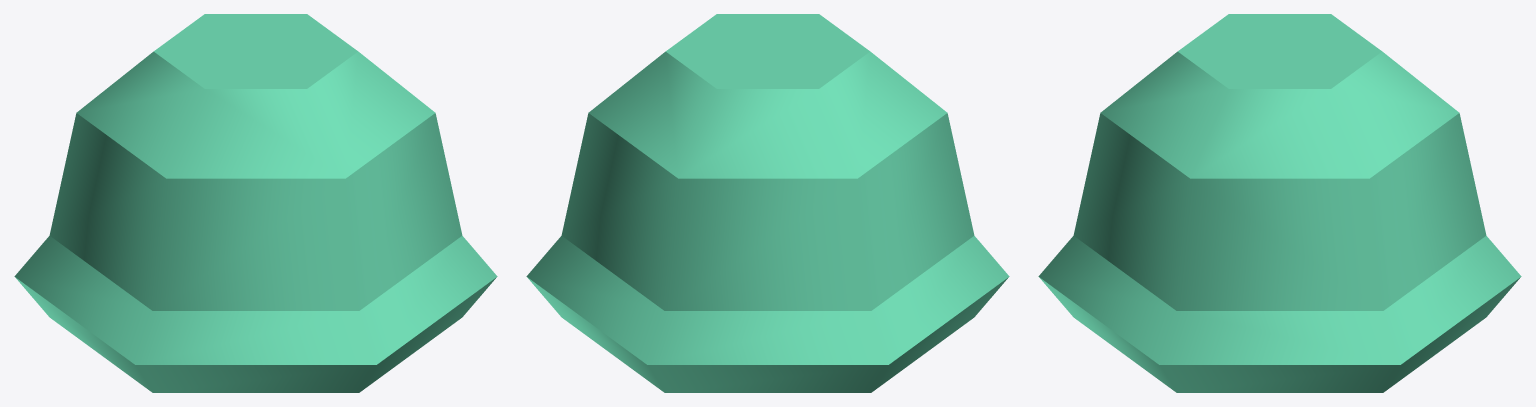
File: iceCreamScoopMint.GLB
The picture shows the model from 3 angles, left to right: view 1: azimuth 30°, elevation 25°; view 2: azimuth 150°, elevation 25°; view 3: azimuth 270°, elevation 25°; orthographic projection.
Visible parts, largest first — view 1: iceCreamScoopMint; view 2: iceCreamScoopMint; view 3: iceCreamScoopMint.
Boxes of the visible parts, x1=… form: iceCreamScoopMint: x1=14, y1=14, x2=497, y2=392; iceCreamScoopMint: x1=526, y1=14, x2=1009, y2=392; iceCreamScoopMint: x1=1038, y1=14, x2=1521, y2=392.
Bounding box in the file's own units: 0.2352 × 0.165 × 0.2716.
